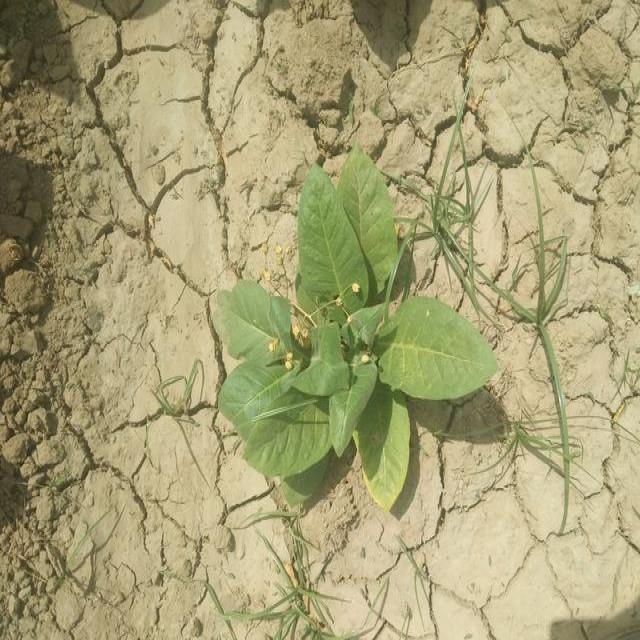crop: (208, 171, 496, 505)
